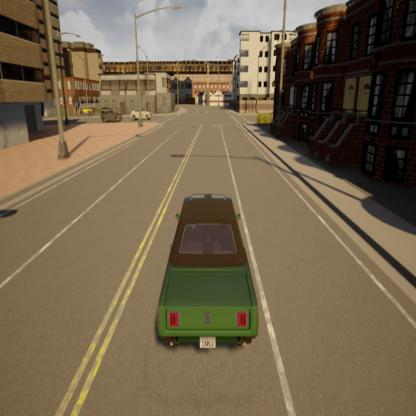Cars: (153, 182, 266, 362), (124, 101, 154, 121), (98, 100, 124, 123), (81, 104, 95, 115)
